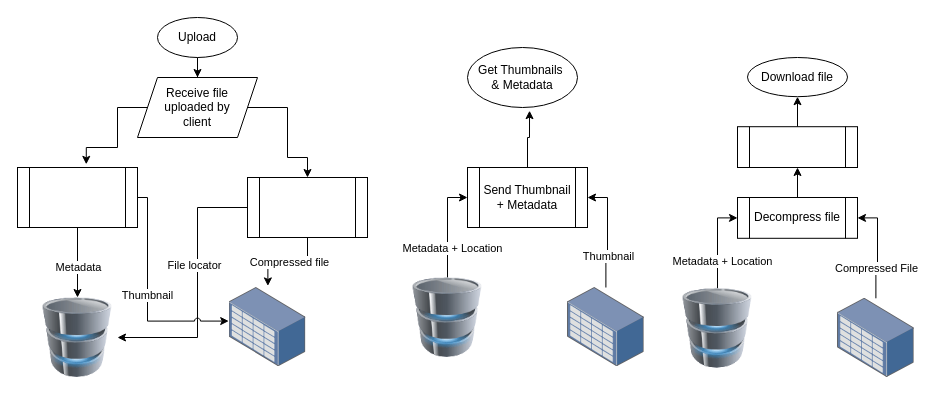
The diagram is 935 pixels wide and 395 high, and some of its shapes have lost their labels. The shapes that lost their labels are listed below. From the top down, each one's centre as x and y in pixels, then its label:
At point (797, 147): "Send file + Metadata".
At point (77, 197): "Generate Thumbnail + Metadata".
At point (307, 207): "Compress file for storage".
